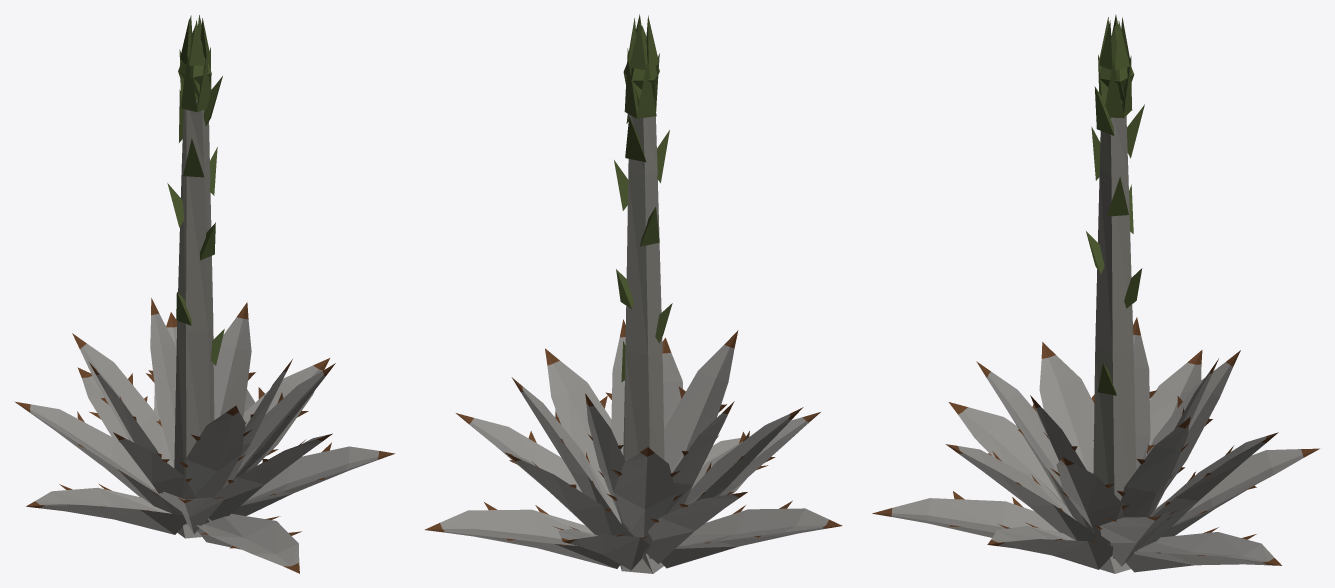
File: flowering-agave-84b67c.glb
3 views of the same model, side by side, from view 1: azimuth 30°, elevation 25°; view 2: azimuth 150°, elevation 25°; view 3: azimuth 270°, elevation 25° (orthographic). The views are drawn at different scales.
Visible parts, largest first — view 1: rosette, spike-mast; view 2: rosette, spike-mast; view 3: rosette, spike-mast.
Boxes of the visible parts, x1,y1,x2,y2 form: rosette: [14, 298, 394, 573]; spike-mast: [167, 15, 224, 524]; rosette: [424, 319, 842, 573]; spike-mast: [614, 14, 672, 558]; rosette: [872, 317, 1319, 573]; spike-mast: [1086, 14, 1144, 558].
Bounding box in the file's own units: 1.37 × 2.03 × 1.5.
